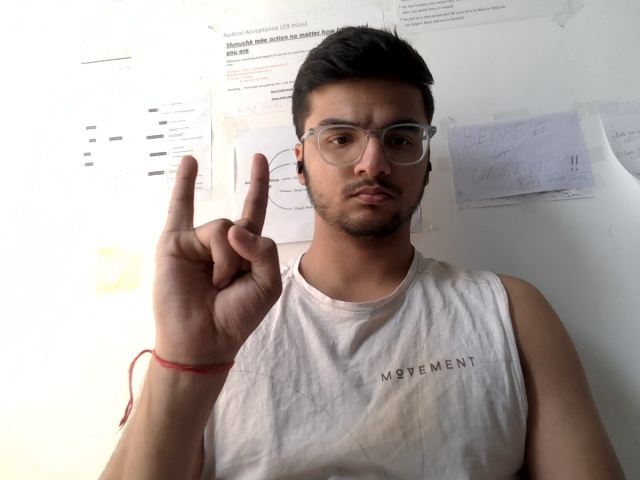iloveyou: (89, 145, 298, 447)
